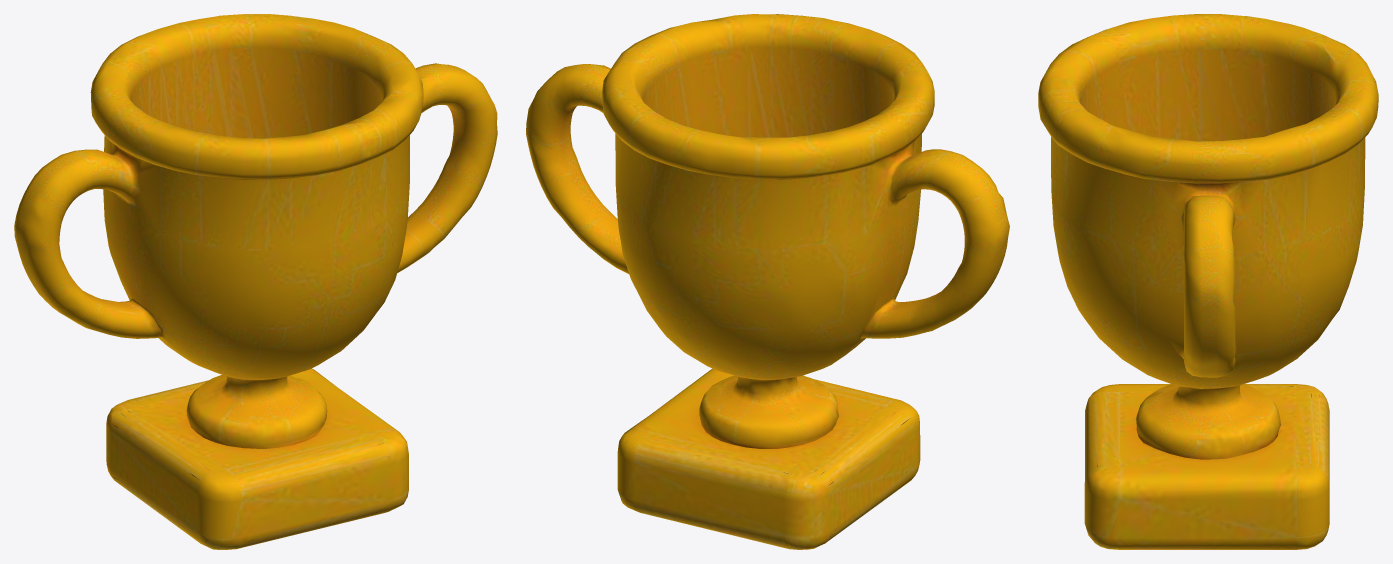
Rendered from golden_trophy.glb.
3 views of the same model, side by side, from view 1: azimuth 30°, elevation 25°; view 2: azimuth 150°, elevation 25°; view 3: azimuth 270°, elevation 25° (orthographic). The views are drawn at different scales.
Visible parts, largest first — view 1: geometry_0; view 2: geometry_0; view 3: geometry_0.
Part boxes in pixels (x1,y1,x2,y2): geometry_0: (14,14,497,549); geometry_0: (526,14,1009,549); geometry_0: (1038,14,1378,549).
Size of the model in its own units: 0.9551 by 0.7983 by 0.5801.
1 material, 1 textured.
